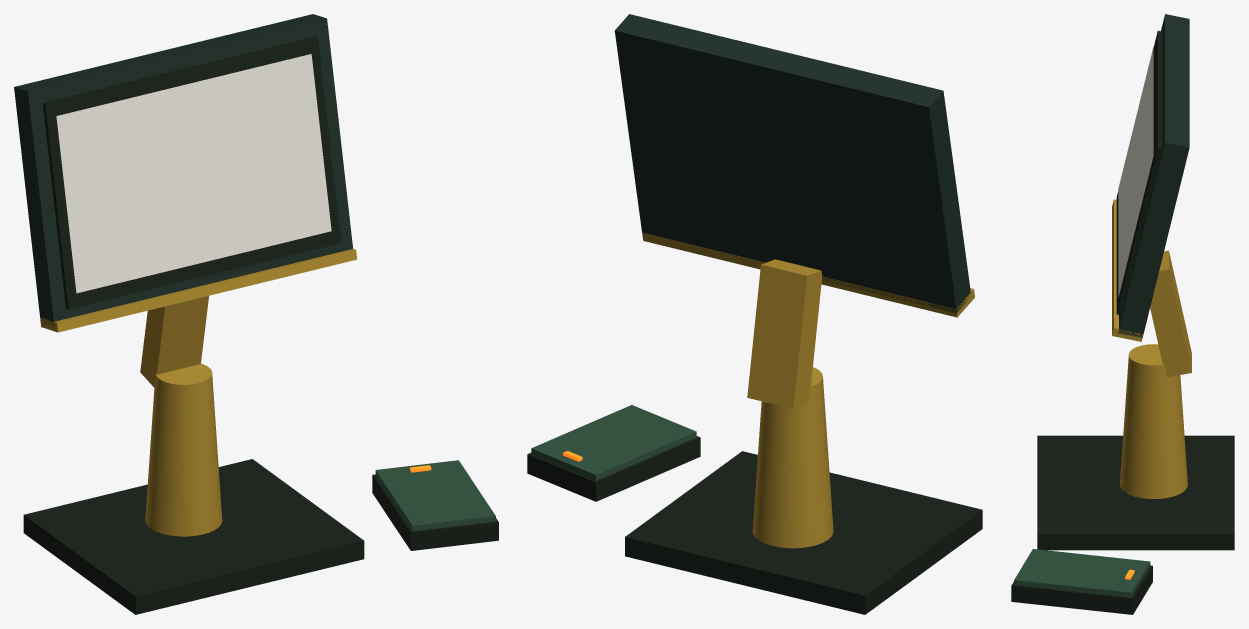
Rendered from pos-terminal.glb.
3 views of the same model, side by side, from view 1: azimuth 30°, elevation 25°; view 2: azimuth 150°, elevation 25°; view 3: azimuth 270°, elevation 25° (orthographic). The views are drawn at different scales.
Visible parts, largest first — view 1: screen_slot, base_plate, screen_shell, screen_bezel, stand_column, reader_face, stand_arm, brand_bar, reader_body; view 2: screen_shell, base_plate, stand_column, stand_arm, reader_face, reader_body, brand_bar; view 3: base_plate, screen_shell, stand_column, reader_face, screen_slot, stand_arm, screen_bezel, reader_body, brand_bar.
Part boxes in pixels (x1=…): screen_slot: x1=56, y1=54, x2=331, y2=293; base_plate: x1=23, y1=459, x2=364, y2=614; screen_shell: x1=14, y1=14, x2=352, y2=325; screen_bezel: x1=42, y1=36, x2=341, y2=309; stand_column: x1=145, y1=363, x2=222, y2=536; reader_face: x1=375, y1=460, x2=495, y2=531; stand_arm: x1=140, y1=296, x2=208, y2=387; brand_bar: x1=40, y1=249, x2=357, y2=332; reader_body: x1=372, y1=474, x2=498, y2=550; screen_shell: x1=614, y1=14, x2=970, y2=312; base_plate: x1=625, y1=451, x2=982, y2=614; stand_column: x1=752, y1=367, x2=833, y2=548; stand_arm: x1=747, y1=259, x2=822, y2=408; reader_face: x1=531, y1=405, x2=696, y2=480; reader_body: x1=527, y1=436, x2=700, y2=501; brand_bar: x1=642, y1=232, x2=974, y2=317; base_plate: x1=1037, y1=435, x2=1234, y2=550; screen_shell: x1=1118, y1=14, x2=1189, y2=337; stand_column: x1=1120, y1=344, x2=1187, y2=498; reader_face: x1=1014, y1=549, x2=1150, y2=597; screen_slot: x1=1118, y1=46, x2=1153, y2=297; stand_arm: x1=1150, y1=250, x2=1191, y2=377; screen_bezel: x1=1116, y1=30, x2=1162, y2=315; reader_body: x1=1011, y1=565, x2=1152, y2=614; brand_bar: x1=1112, y1=199, x2=1143, y2=341.
Size of the model in its own units: 0.4709 by 0.5202 by 0.249.
